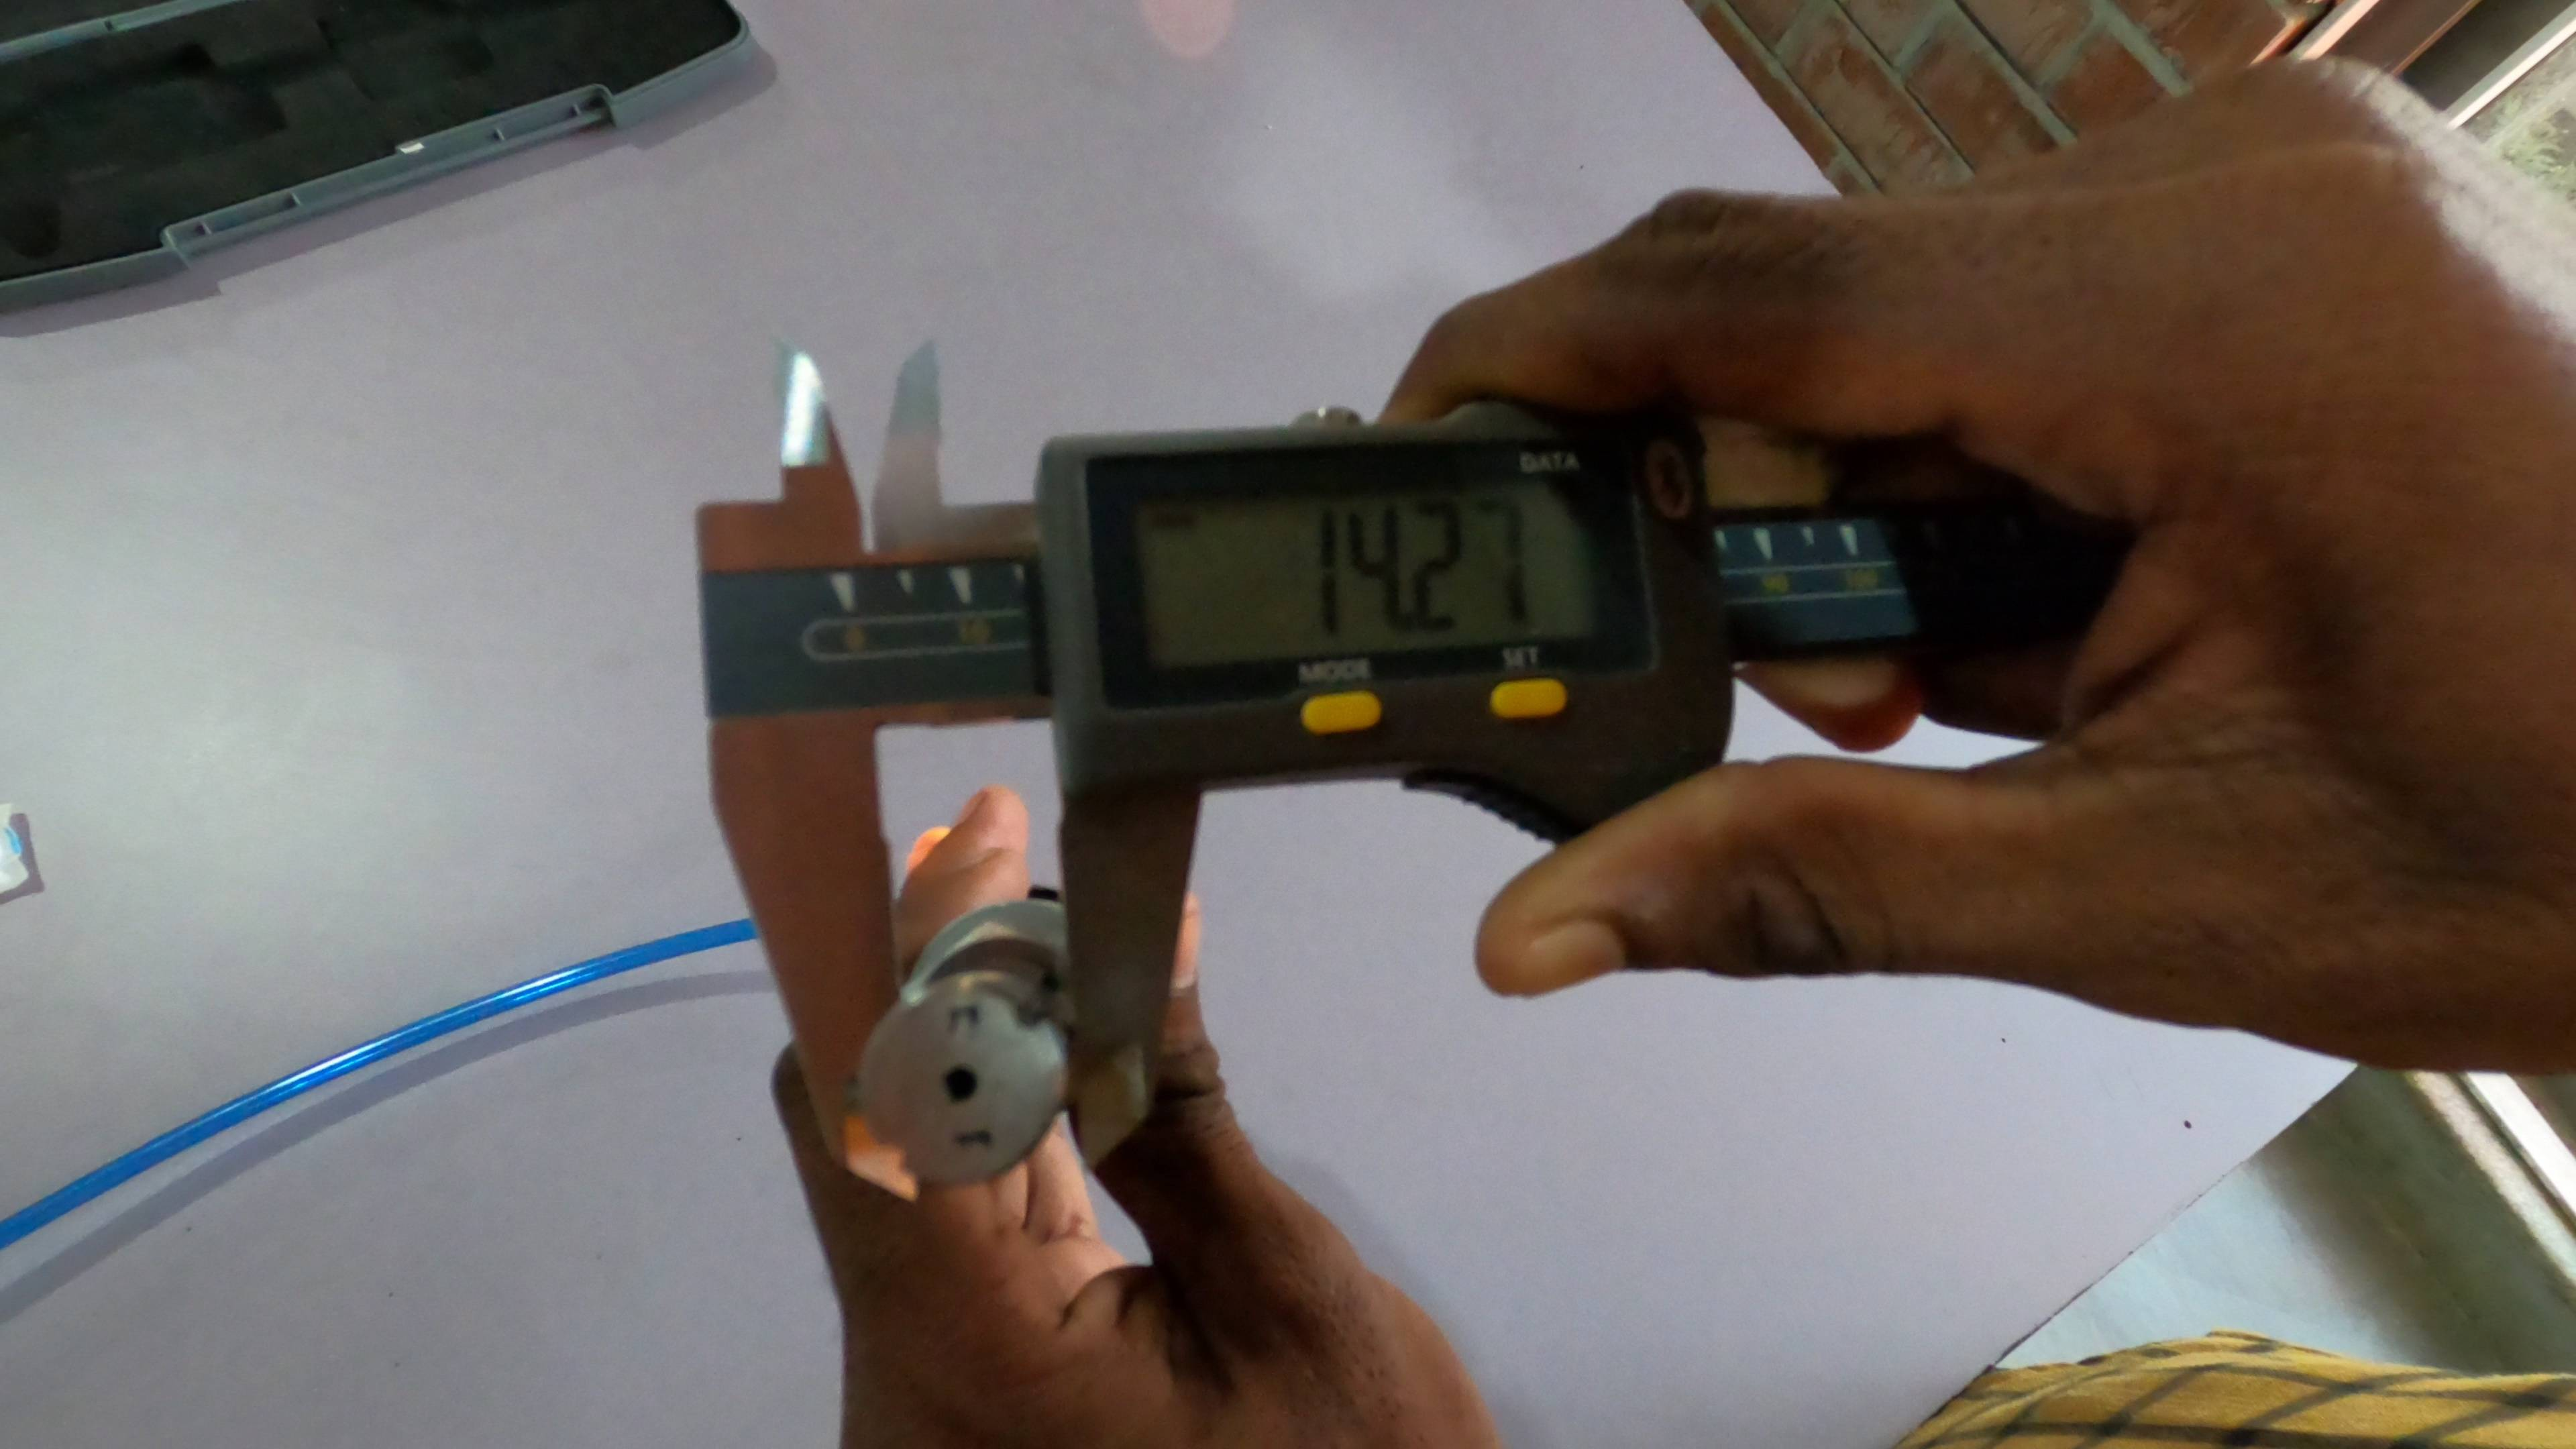vernier_caliper: (695, 336, 2070, 1205)
